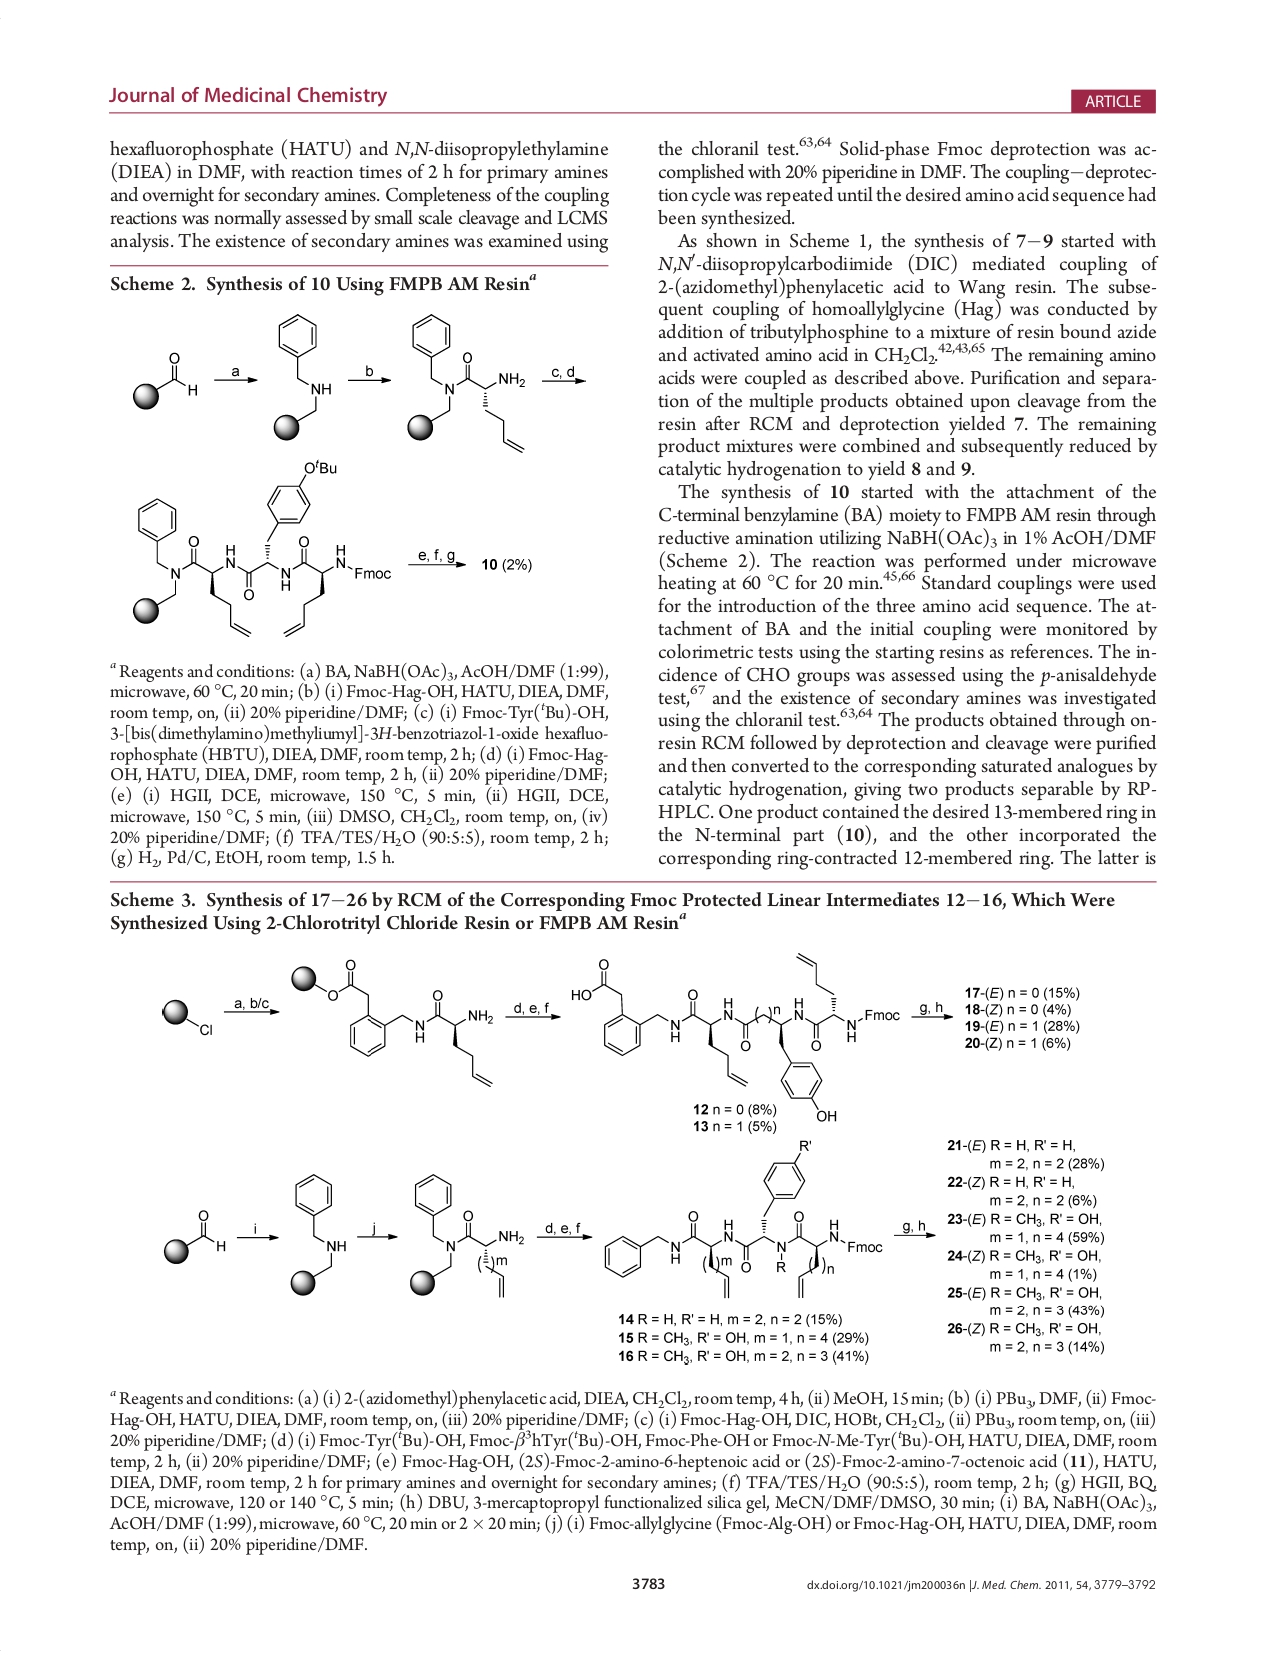exist_molecular: (564, 950, 904, 1124), (128, 453, 395, 641), (598, 1136, 890, 1302), (289, 956, 499, 1091), (402, 306, 533, 457), (406, 1170, 529, 1305), (269, 310, 336, 443), (287, 1168, 351, 1297), (125, 344, 202, 415), (161, 1204, 227, 1267), (154, 989, 218, 1044)
